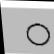no answer: (25, 22, 53, 47)
